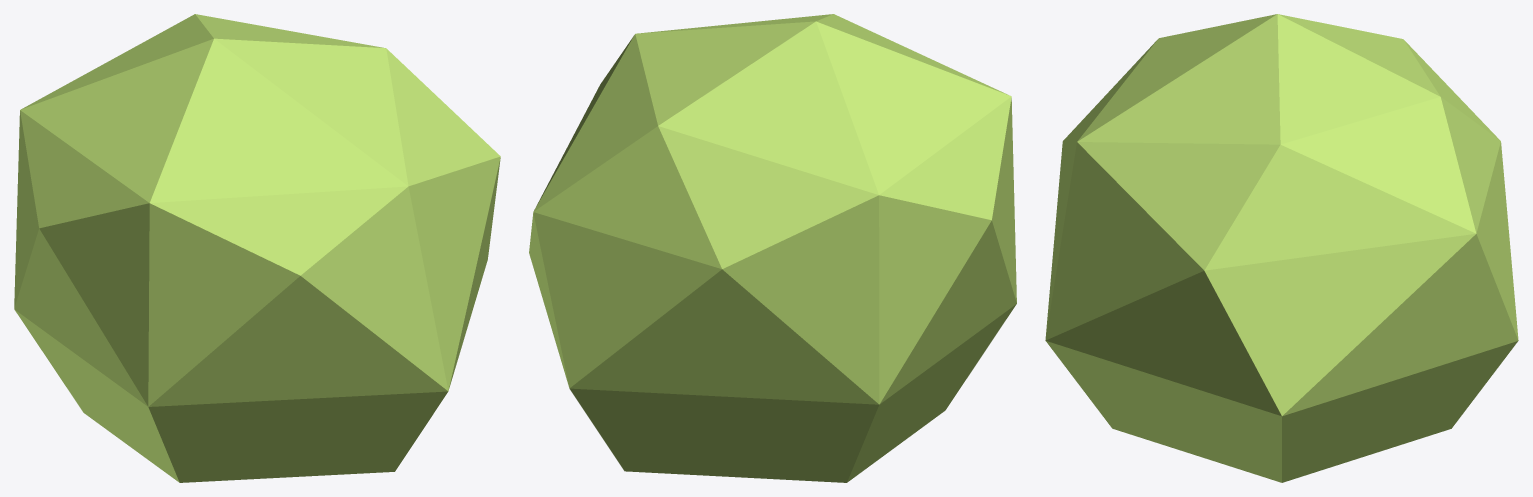
File: Bush_h_m_03.fbx
The picture shows the model from 3 angles, left to right: view 1: azimuth 30°, elevation 25°; view 2: azimuth 150°, elevation 25°; view 3: azimuth 270°, elevation 25°; orthographic projection. The views are drawn at different scales.
Parts seen in each view (by area): view 1: Bush_h_m_03; view 2: Bush_h_m_03; view 3: Bush_h_m_03.
Boxes of the visible parts, <box> form: Bush_h_m_03: <box>14,14,500,482</box>; Bush_h_m_03: <box>529,14,1016,482</box>; Bush_h_m_03: <box>1045,14,1518,482</box>.
Size of the model in its own units: 1.31 by 1.1 by 1.27.
